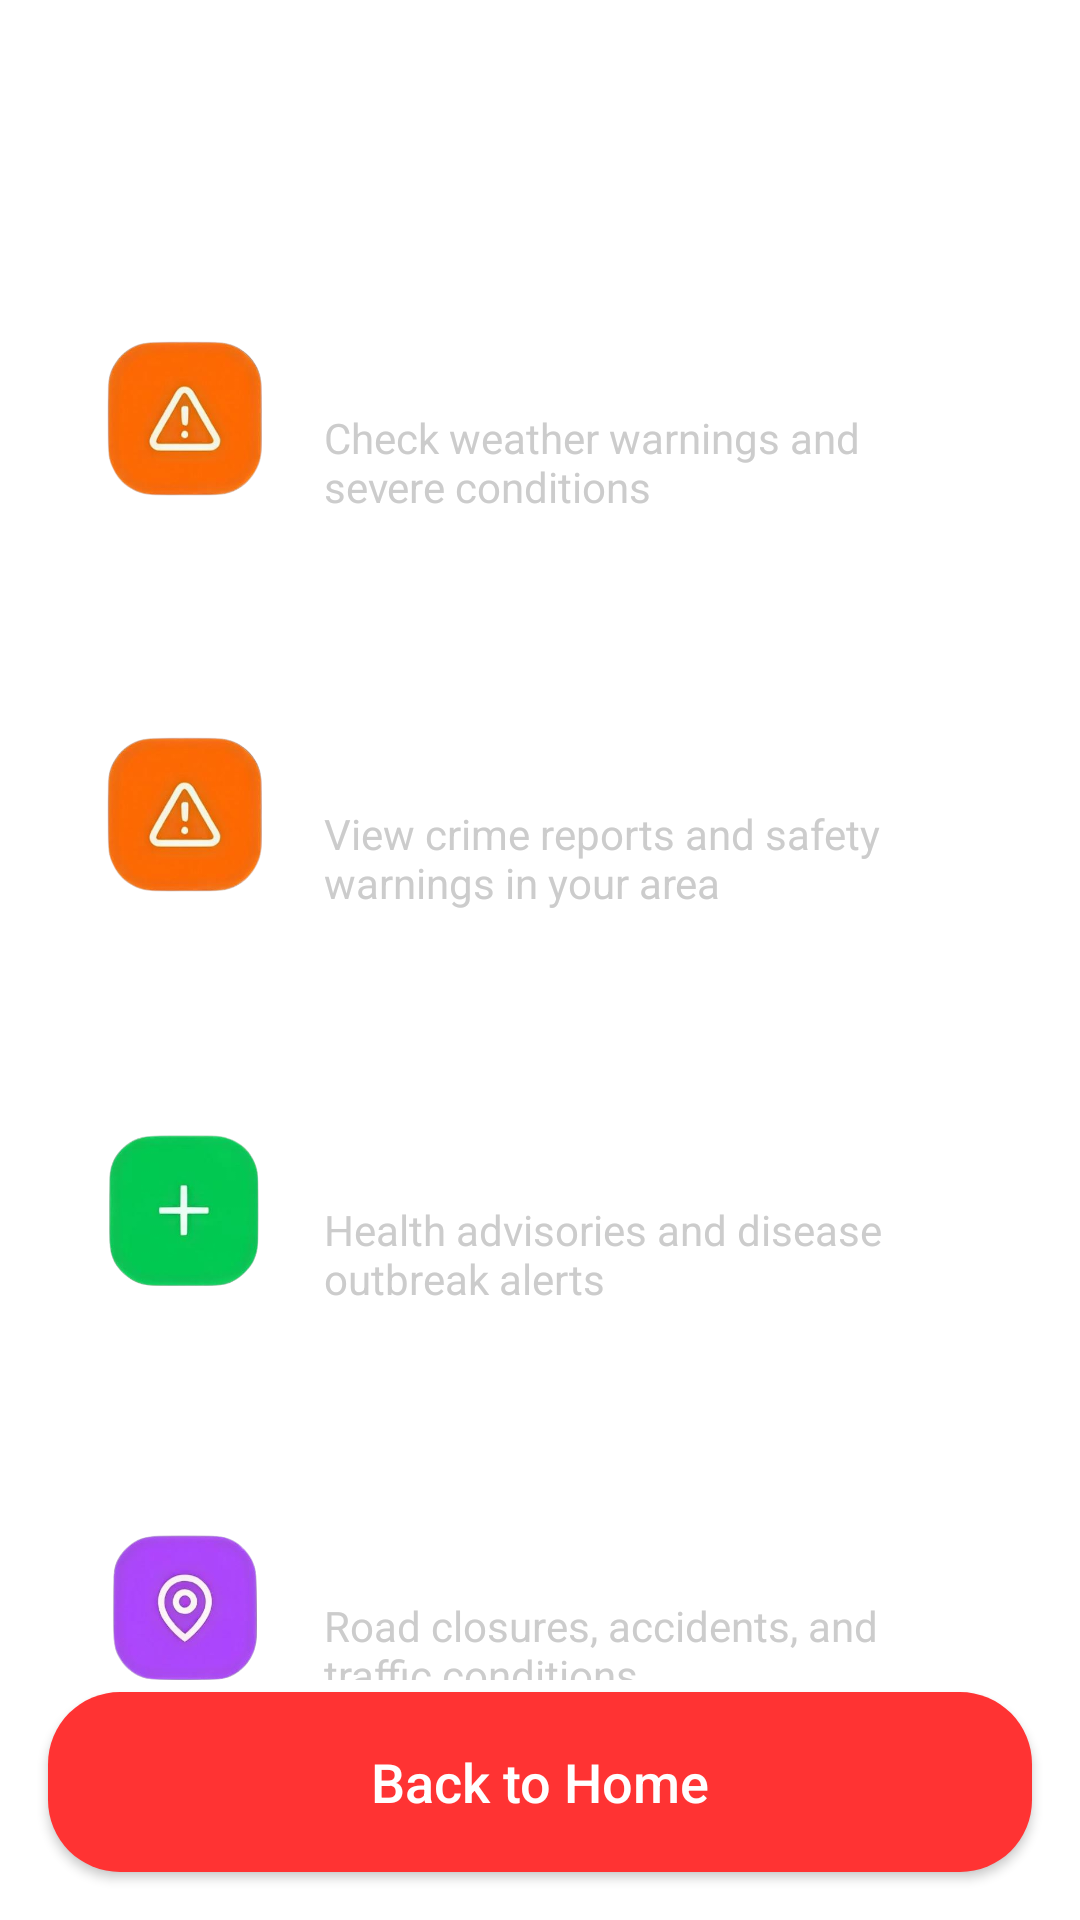

Icons on this 1080 x 1920 Android screen, each with the point to tap as (x,y):
high risk: (185,418), (185,814)
location: (185,1607)
medical: (184,1210)
